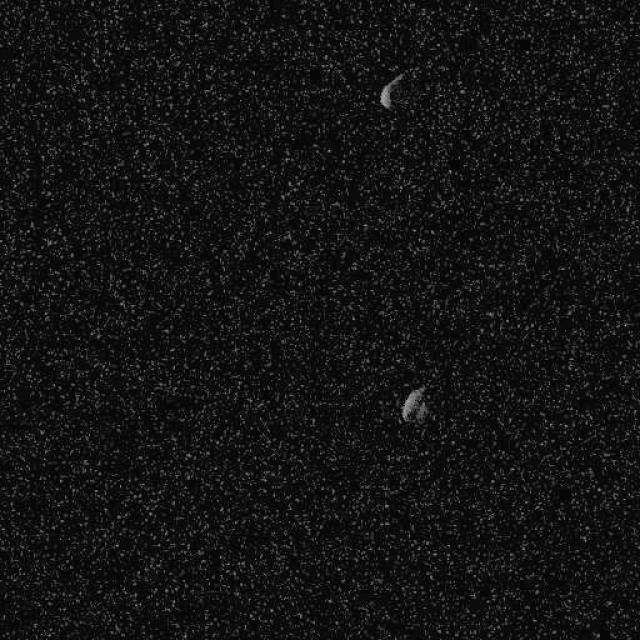D2: (400, 384, 431, 425), (378, 71, 403, 110)
